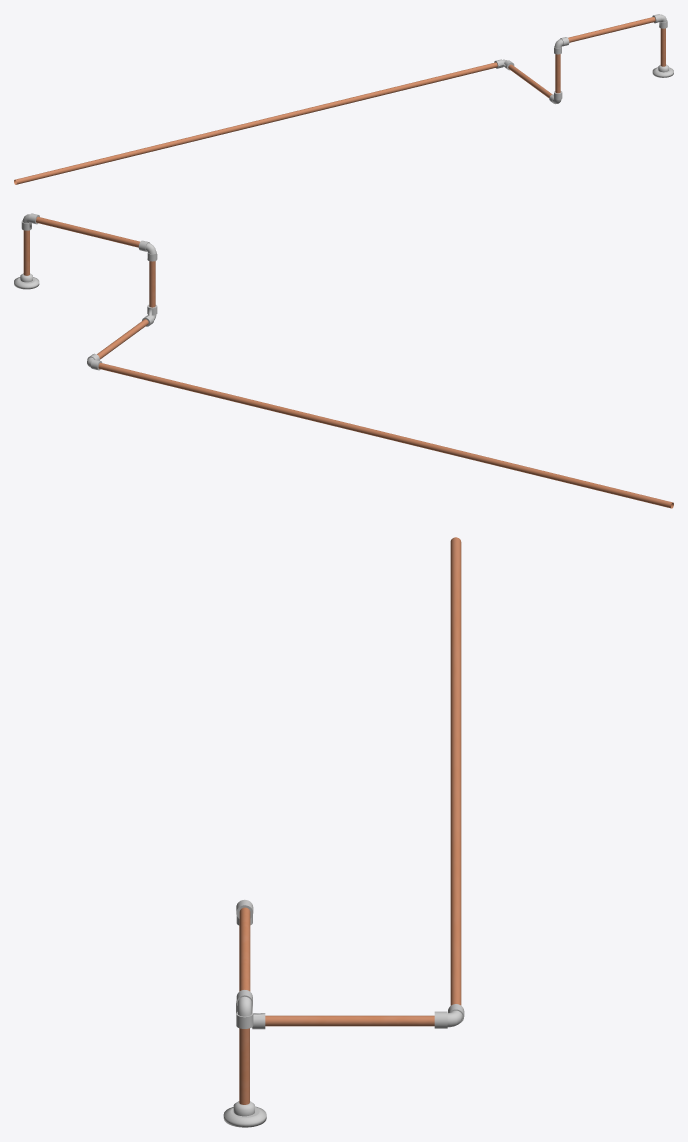
Rendered from Hot Water Piping.fbx.
3 views of the same model, one above another, from view 1: azimuth 30°, elevation 25°; view 2: azimuth 150°, elevation 25°; view 3: azimuth 270°, elevation 25° (orthographic). The views are drawn at different scales.
Visible parts, largest first — view 1: Pipe 28.005, Pipe 28.004, Pipe 29.004; view 2: Pipe 28.005, Pipe 28.004; view 3: Pipe 28.005, Pipe 29.004, Pipe 28.004.
Part boxes in pixels (x1,y1,x2,y2): Pipe 28.005: (14,62,497,184); Pipe 28.004: (568,17,655,42); Pipe 29.004: (508,64,552,97); Pipe 28.005: (98,362,673,508); Pipe 28.004: (36,216,139,247); Pipe 28.005: (450,537,461,1005); Pipe 29.004: (265,1015,434,1026); Pipe 28.004: (239,907,250,991).
Size of the model in its own units: 216 by 22.7 by 37.28.
